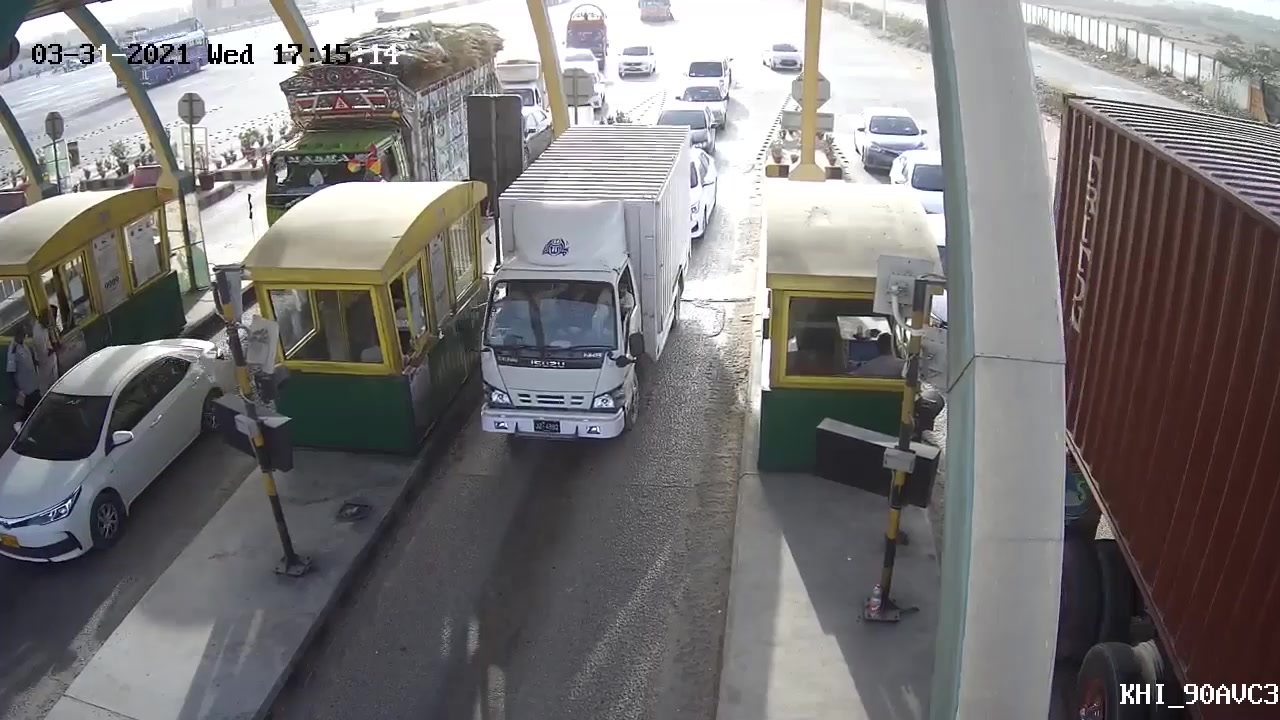F3: (478, 120, 699, 456)
